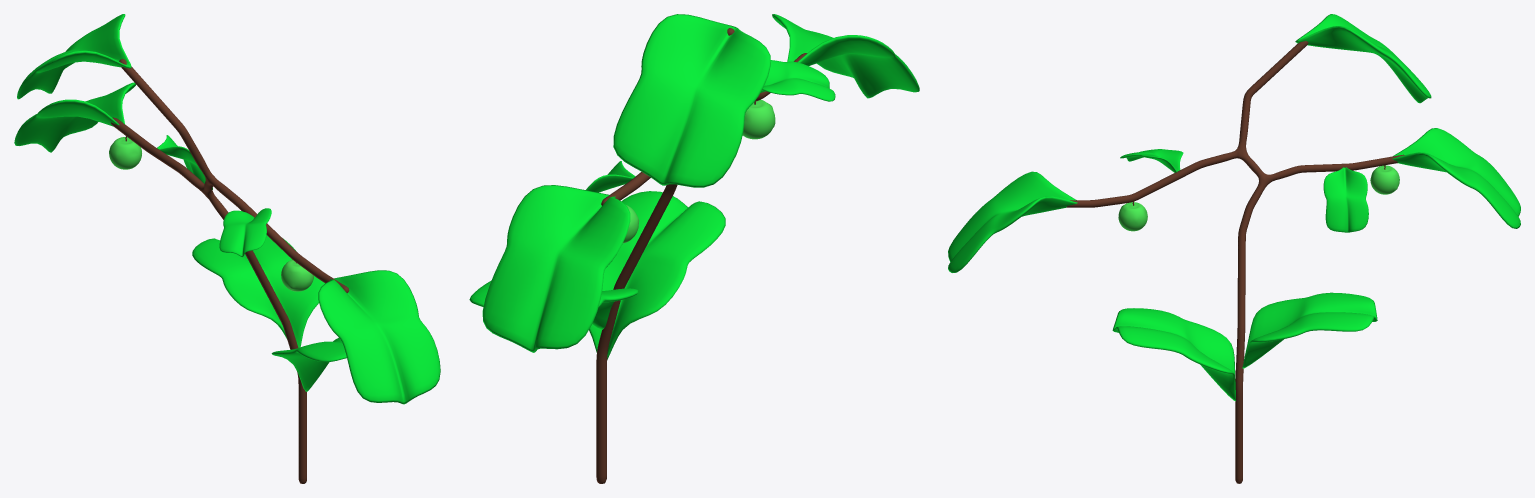
Rendered from Tomates_Croissance_2.fbx.
The picture shows the model from 3 angles, left to right: view 1: azimuth 30°, elevation 25°; view 2: azimuth 150°, elevation 25°; view 3: azimuth 270°, elevation 25°; orthographic projection. The views are drawn at different scales.
Parts seen in each view (by area): view 1: Plante.002, Plante, branche, Plante.001, Plante.003, Plante.005, Tomate.001, Tomate, Plante.004; view 2: Plante.003, Plante.001, Plante, Plante.002, branche, Plante.005, Tomate, Plante.004; view 3: Plante, branche, Plante.002, Plante.001, Plante.003, Plante.004, Plante.005, Tomate, Tomate.001.
Part boxes in pixels (x1,y1,x2,y2): Plante.002: [318, 270, 440, 404]; Plante: [192, 235, 346, 391]; branche: [111, 59, 349, 483]; Plante.001: [14, 82, 136, 152]; Plante.003: [17, 14, 131, 99]; Plante.005: [219, 208, 271, 256]; Tomate.001: [109, 136, 141, 169]; Tomate: [281, 259, 313, 291]; Plante.004: [157, 135, 212, 189]; Plante.003: [613, 14, 770, 187]; Plante.001: [482, 185, 630, 352]; Plante: [469, 191, 725, 359]; Plante.002: [772, 14, 919, 98]; branche: [596, 28, 806, 483]; Plante.005: [760, 60, 835, 101]; Tomate: [742, 99, 775, 139]; Plante.004: [586, 161, 635, 192]; Plante: [1112, 292, 1377, 401]; branche: [1066, 41, 1404, 483]; Plante.002: [948, 171, 1077, 272]; Plante.001: [1392, 128, 1520, 228]; Plante.003: [1295, 14, 1431, 103]; Plante.004: [1323, 167, 1368, 232]; Plante.005: [1120, 149, 1183, 172]; Tomate: [1118, 201, 1147, 231]; Tomate.001: [1370, 165, 1399, 194].
Size of the model in its own units: 86.78 by 155 by 199.
